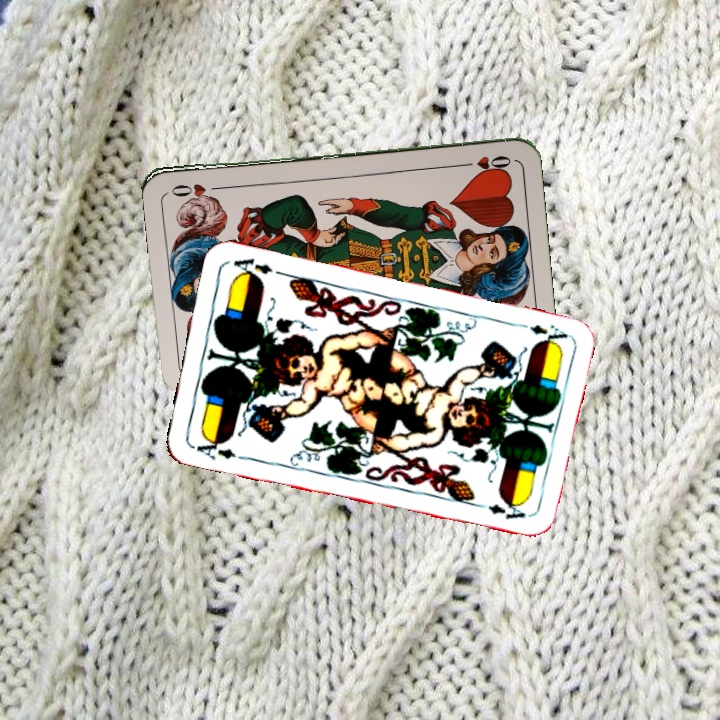EA: (512, 319, 570, 349), (187, 432, 238, 462)
HO: (456, 151, 514, 172)
